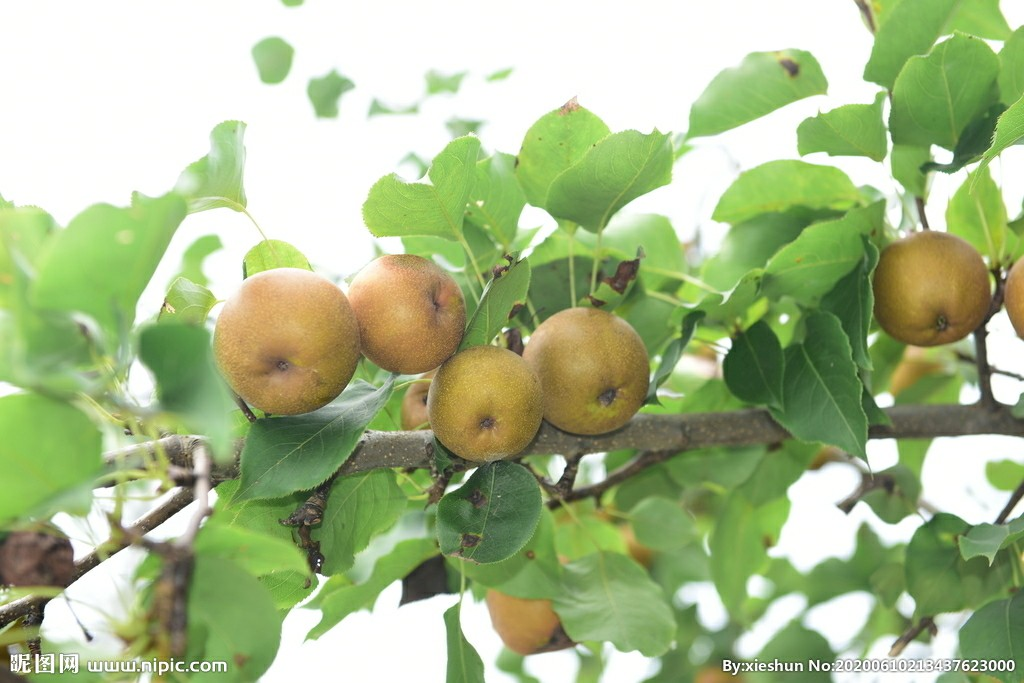pear: (211, 267, 361, 416), (524, 306, 650, 437), (352, 253, 468, 374), (871, 232, 990, 348), (430, 347, 540, 461), (482, 569, 568, 651)
